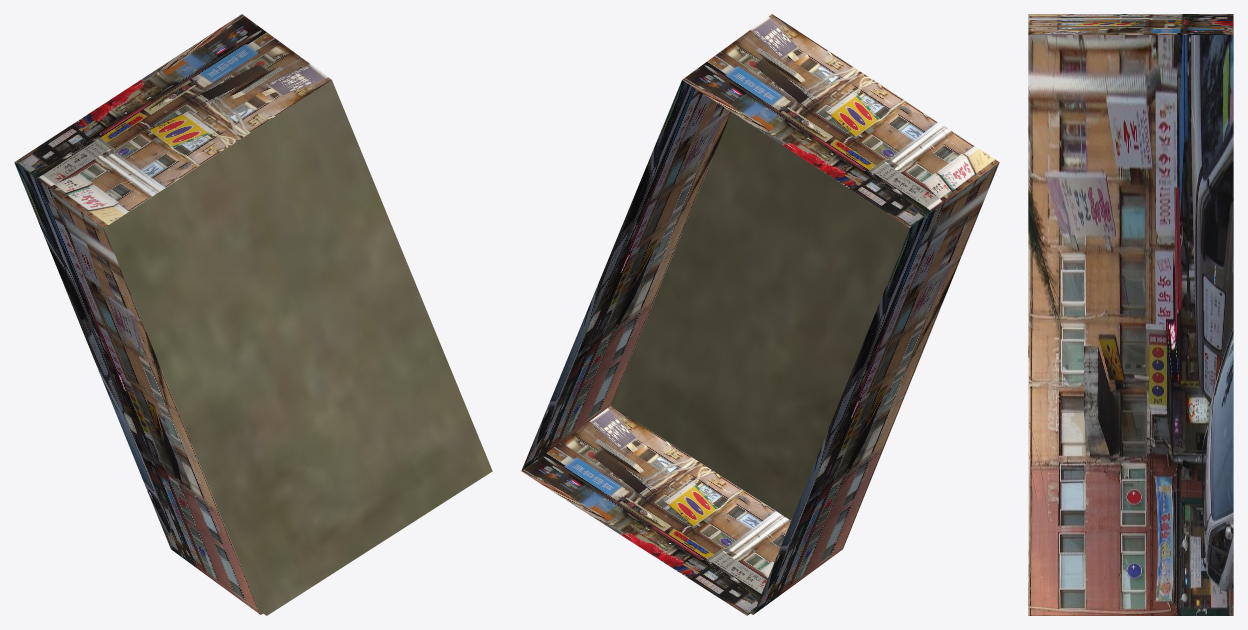
The picture shows the model from 3 angles, left to right: view 1: azimuth 30°, elevation 25°; view 2: azimuth 150°, elevation 25°; view 3: azimuth 270°, elevation 25°; orthographic projection. The views are drawn at different scales.
Visible parts, largest first — view 1: IndexedFaceSet, IndexedFaceSet__2_0, IndexedFaceSet__1_0; view 2: IndexedFaceSet, IndexedFaceSet__2_0, IndexedFaceSet__4_0, IndexedFaceSet__1_0, IndexedFaceSet__3_0; view 3: IndexedFaceSet__3_0, IndexedFaceSet__2_0.
Boxes of the visible parts, box(x1,y1,x2,y2) form: IndexedFaceSet: box(104, 80, 492, 615); IndexedFaceSet__2_0: box(14, 14, 331, 227); IndexedFaceSet__1_0: box(14, 162, 260, 614); IndexedFaceSet: box(611, 112, 909, 520); IndexedFaceSet__2_0: box(682, 14, 999, 227); IndexedFaceSet__4_0: box(521, 405, 790, 615); IndexedFaceSet__1_0: box(753, 162, 999, 614); IndexedFaceSet__3_0: box(521, 80, 731, 470); IndexedFaceSet__3_0: box(1028, 35, 1233, 615); IndexedFaceSet__2_0: box(1028, 14, 1233, 34).
Bounding box in the file's own units: 27.97 × 35.78 × 11.22.
5 materials, 5 textured.
